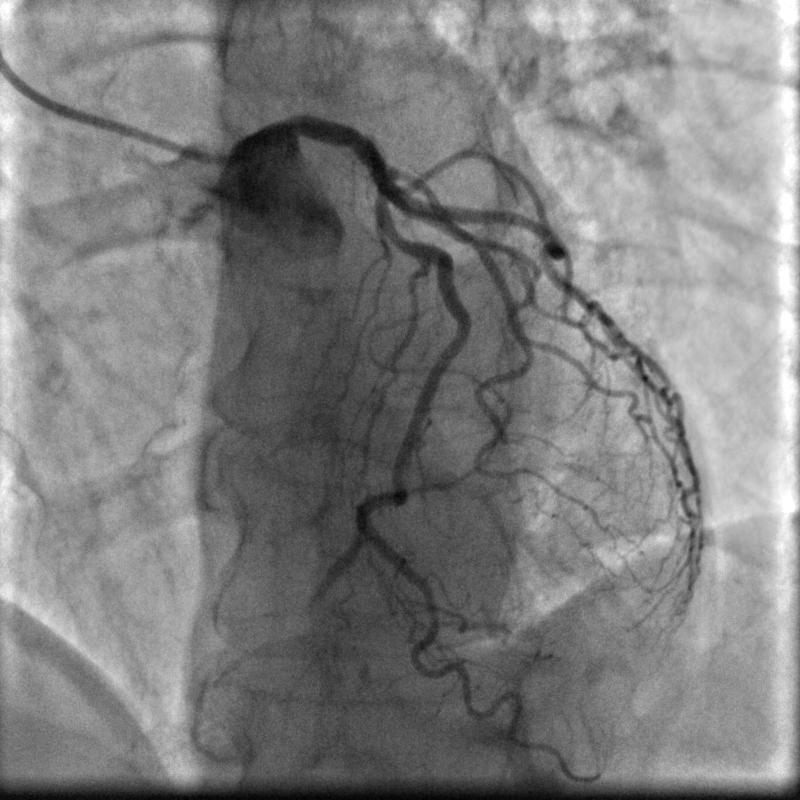Stenosis: (381, 222, 407, 248)
